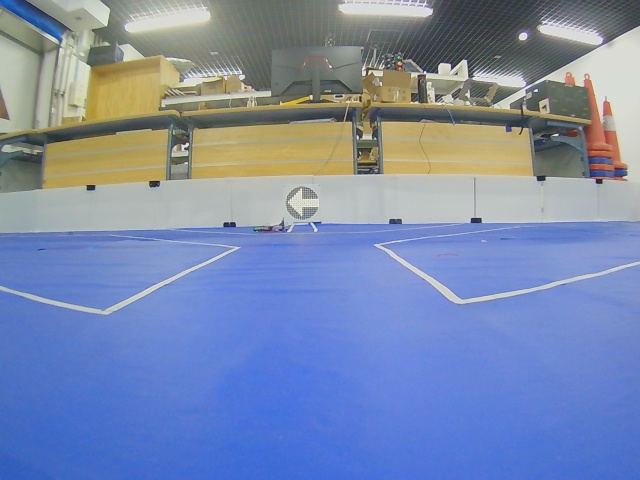left_yellow: (285, 186, 319, 220)
